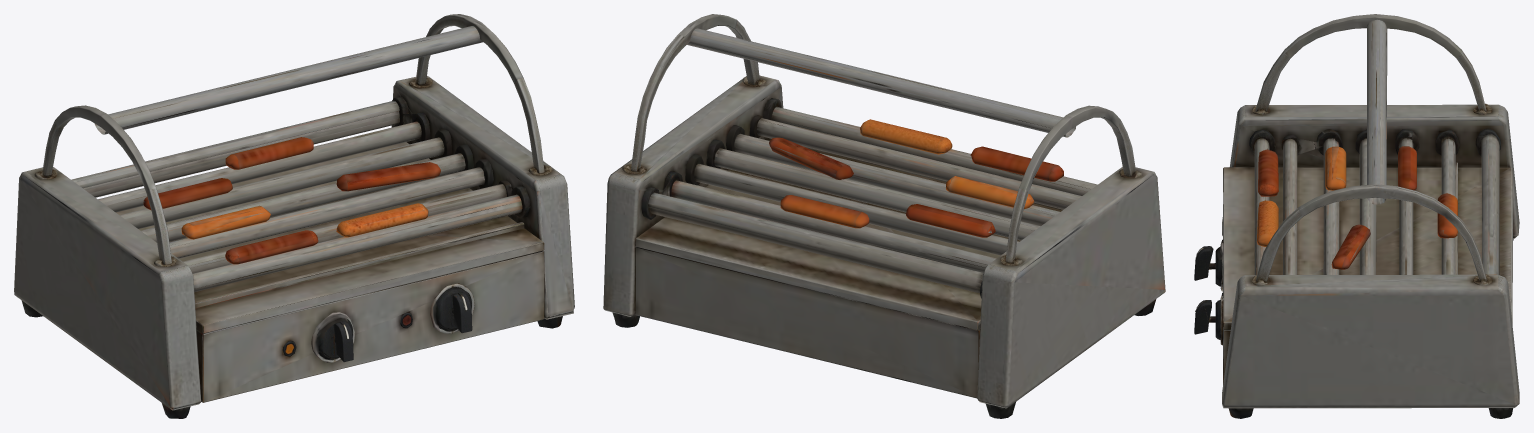
The model's file is p7-hot-dog-roller-t25.glb.
The picture shows the model from 3 angles, left to right: view 1: azimuth 30°, elevation 25°; view 2: azimuth 150°, elevation 25°; view 3: azimuth 270°, elevation 25°; orthographic projection. The views are drawn at different scales.
Parts seen in each view (by area): view 1: p7-hot-dog-roller-t25; view 2: p7-hot-dog-roller-t25; view 3: p7-hot-dog-roller-t25.
Part boxes in pixels (x1,y1,x2,y2): p7-hot-dog-roller-t25: (14,14,574,418); p7-hot-dog-roller-t25: (603,14,1165,418); p7-hot-dog-roller-t25: (1194,14,1519,418).
Bounding box in the file's own units: 0.6 × 0.35 × 0.448.
1 material, 1 textured.
